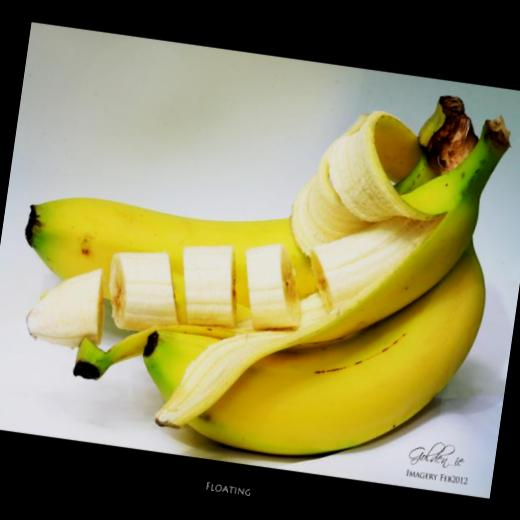Banana: (150, 74, 504, 470), (16, 98, 438, 342), (21, 256, 108, 352), (232, 239, 312, 339), (104, 244, 190, 336), (174, 242, 243, 330)
